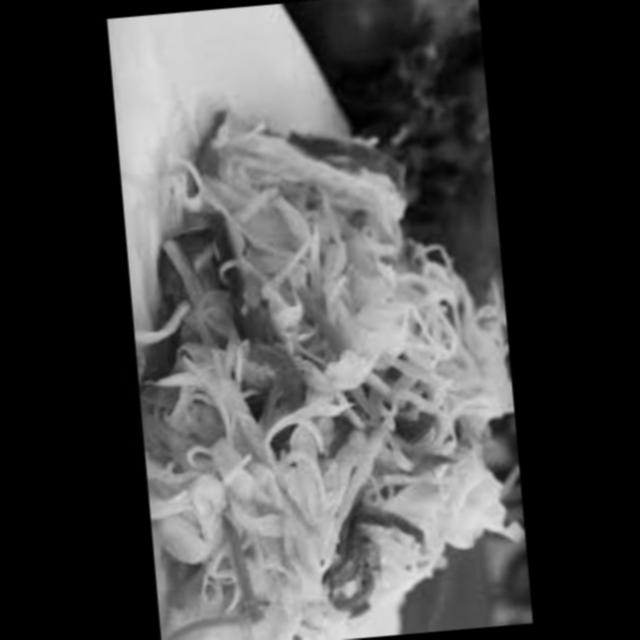ca rot: (220, 238, 314, 440), (227, 516, 275, 640), (162, 608, 248, 640)
cabbage: (147, 434, 383, 634), (278, 157, 470, 390), (158, 98, 304, 246), (377, 434, 516, 586), (175, 339, 274, 463), (439, 298, 518, 449)
hot pepper: (310, 480, 434, 622), (134, 261, 202, 389), (298, 124, 412, 184), (398, 401, 443, 441)
